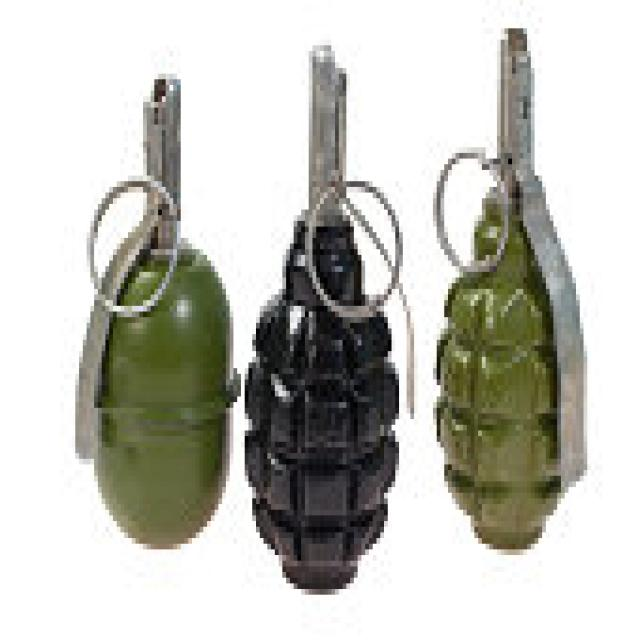grenade: (238, 40, 429, 611), (434, 18, 598, 573), (70, 70, 246, 553)
